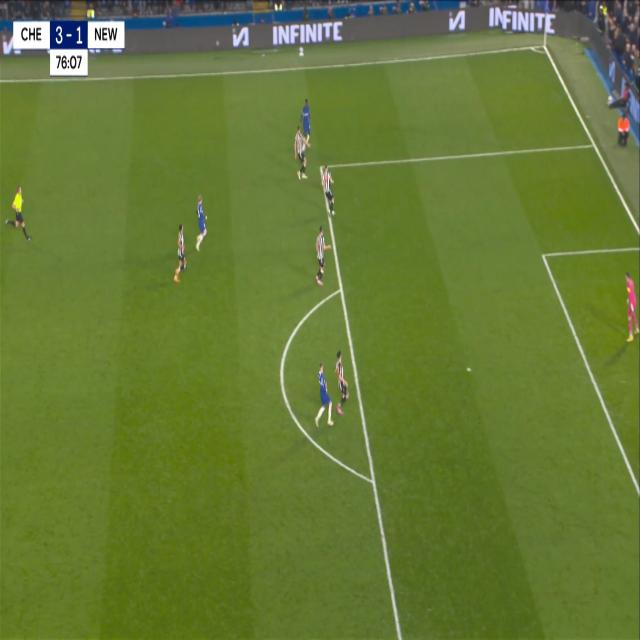Chelsea: (312, 357, 336, 431), (192, 188, 210, 254), (300, 93, 314, 137)
New castle: (333, 343, 353, 422), (312, 221, 332, 290), (291, 123, 312, 182), (318, 160, 338, 220), (174, 224, 189, 286)
New castle keeper: (624, 266, 640, 342)
Refree: (4, 180, 33, 245)
